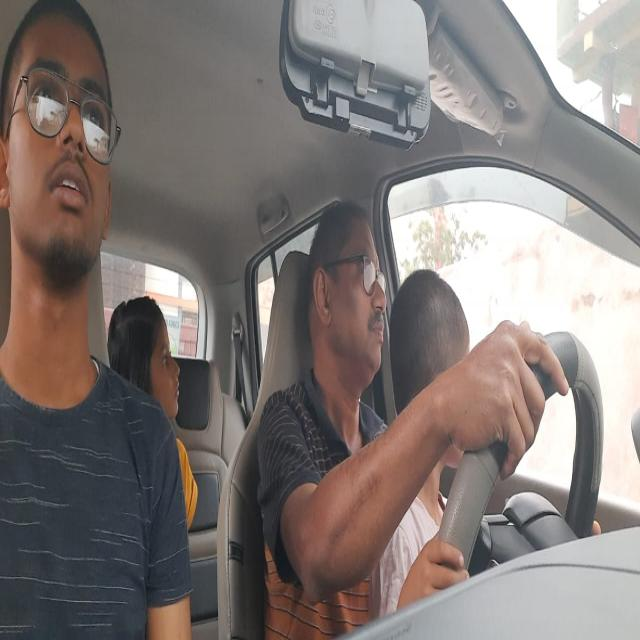child: (392, 270, 472, 448)
person: (0, 0, 120, 322), (306, 202, 388, 392), (110, 279, 186, 446)
